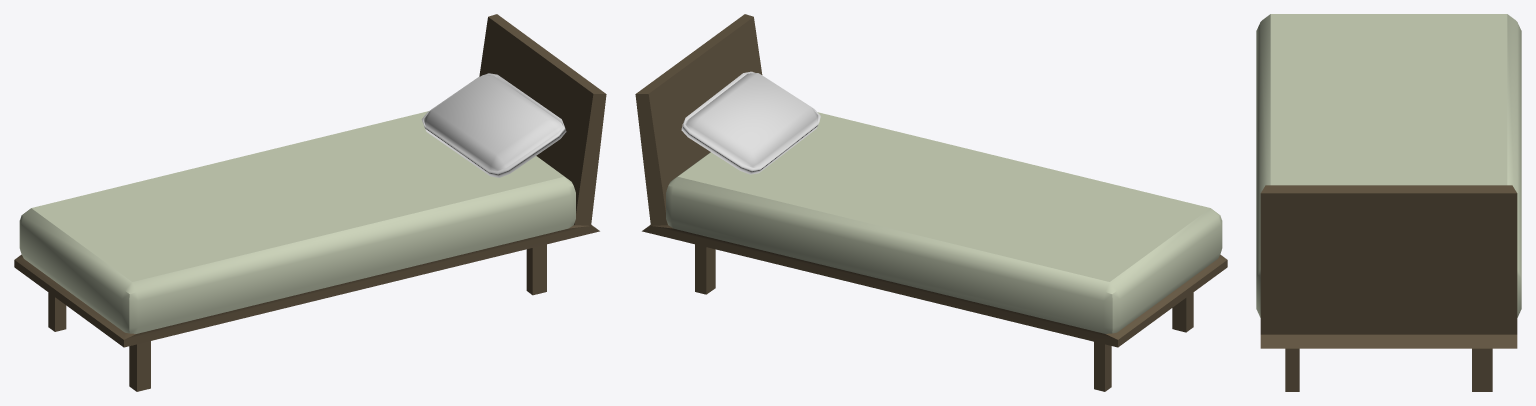
Rendered from wizardbed.fbx.
3 views of the same model, side by side, from view 1: azimuth 30°, elevation 25°; view 2: azimuth 150°, elevation 25°; view 3: azimuth 270°, elevation 25° (orthographic). The views are drawn at different scales.
Visible parts, largest first — view 1: Bed Base, Pillow; view 2: Bed Base, Pillow; view 3: Bed Base.
Part boxes in pixels (bbox=[...]): Bed Base: bbox=[14, 14, 606, 391]; Pillow: bbox=[421, 73, 566, 177]; Bed Base: bbox=[635, 14, 1227, 391]; Pillow: bbox=[681, 71, 820, 174]; Bed Base: bbox=[1256, 14, 1521, 391].
Size of the model in its own units: 371 by 143 by 151.
